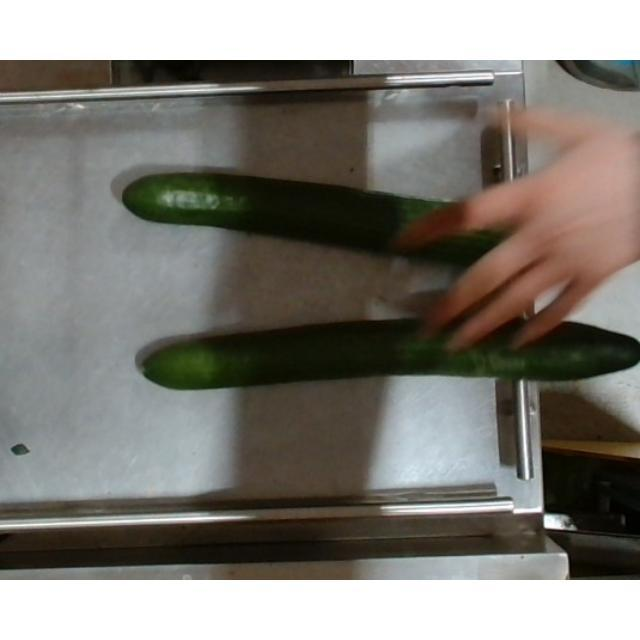cucumber: (124, 164, 538, 270), (144, 318, 640, 387)
